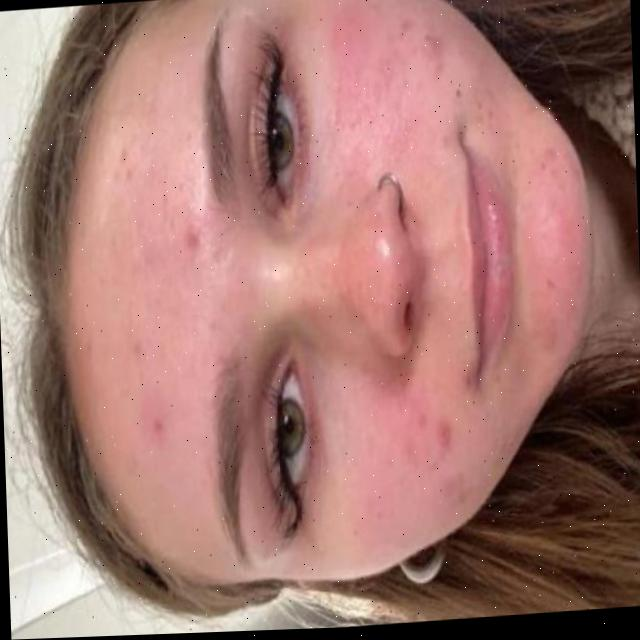Acne: (544, 151, 579, 311), (428, 410, 458, 450), (183, 227, 197, 245), (150, 411, 159, 435)
